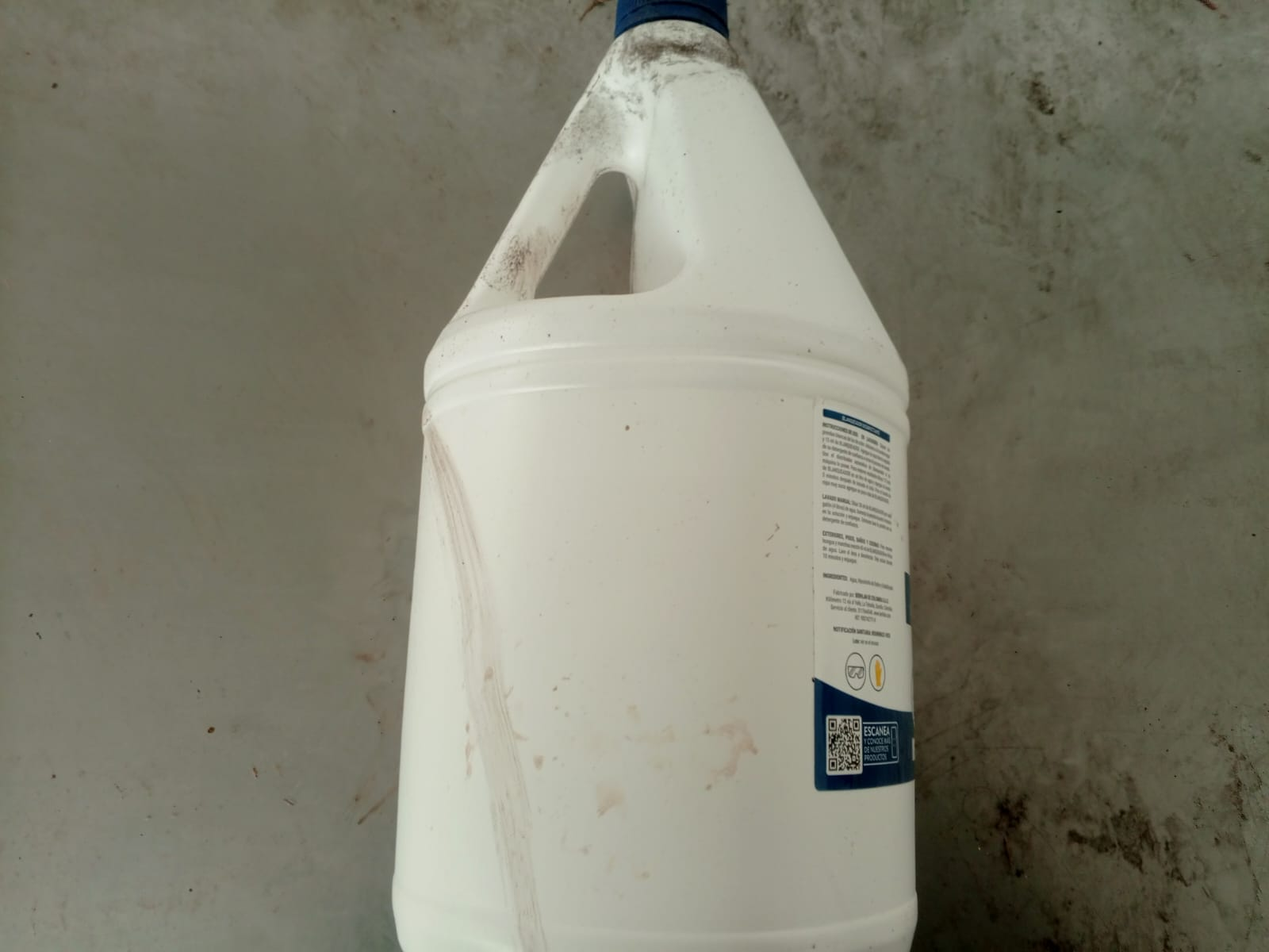Plastico: (393, 0, 916, 952)
